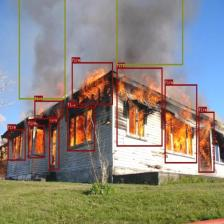fire: (116, 67, 162, 147), (164, 84, 198, 163), (71, 62, 113, 104), (67, 106, 95, 152), (198, 111, 215, 172), (48, 121, 60, 170), (8, 129, 26, 160), (34, 100, 63, 119), (28, 125, 44, 158)
smoke: (18, 0, 65, 99), (116, 0, 183, 65)
